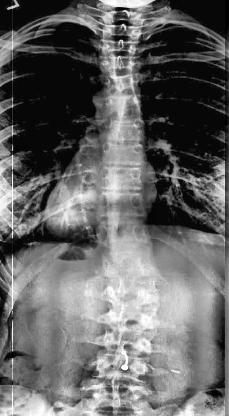Vertebrae: (94, 352, 152, 384), (102, 267, 158, 299), (98, 216, 152, 248), (102, 242, 156, 274), (102, 322, 156, 354), (98, 188, 150, 220), (104, 294, 158, 324), (95, 93, 147, 123), (99, 118, 152, 146), (100, 139, 146, 169), (99, 163, 145, 193), (100, 73, 143, 99), (99, 52, 141, 76), (100, 24, 144, 46), (100, 38, 142, 60)
